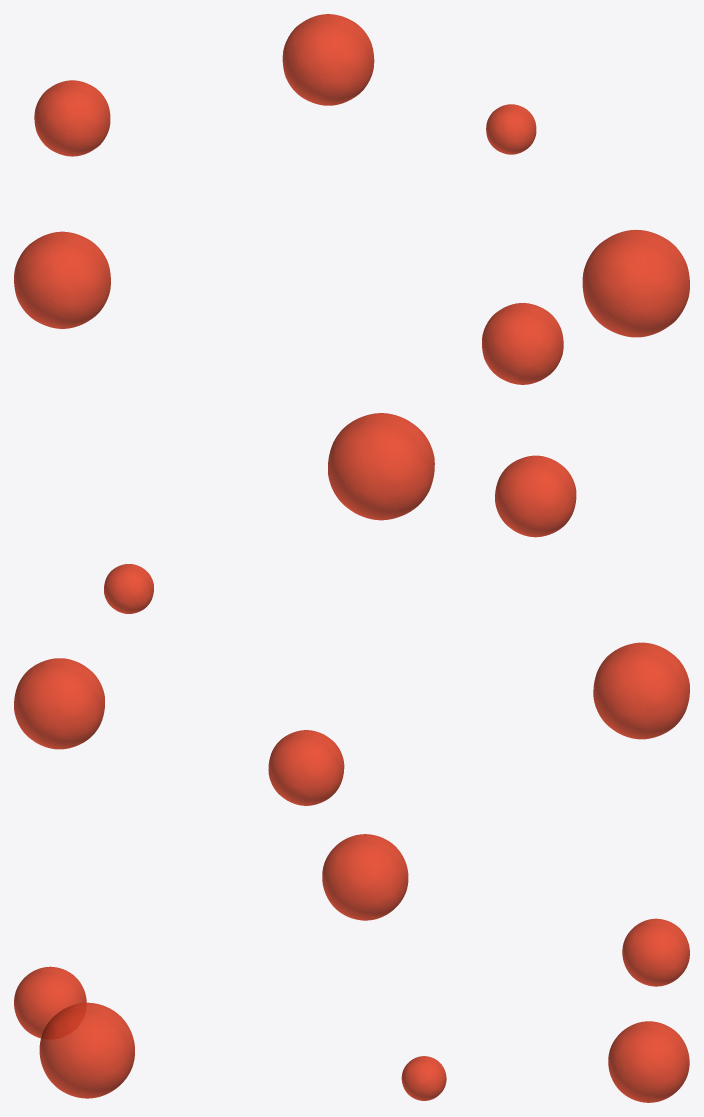
Rendered from soupedWaterSky001_01.fbx.
3 views of the same model, one above another, from view 1: azimuth 30°, elevation 25°; view 2: azimuth 150°, elevation 25°; view 3: azimuth 270°, elevation 25° (orthographic). The views are drawn at different scales.
Visible parts, largest first — view 1: waterSky001.001; view 2: waterSky001.001; view 3: waterSky001.001.
Boxes of the visible parts, x1=… form: waterSky001.001: x1=14, y1=14, x2=689, y2=384; waterSky001.001: x1=14, y1=413, x2=689, y2=805; waterSky001.001: x1=14, y1=834, x2=689, y2=1102.
Bounding box in the file's own units: 129 × 23.07 × 155.
